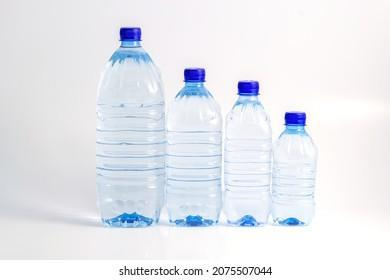bottle: (83, 20, 171, 236), (162, 63, 222, 235), (273, 102, 321, 235), (230, 77, 258, 232)
